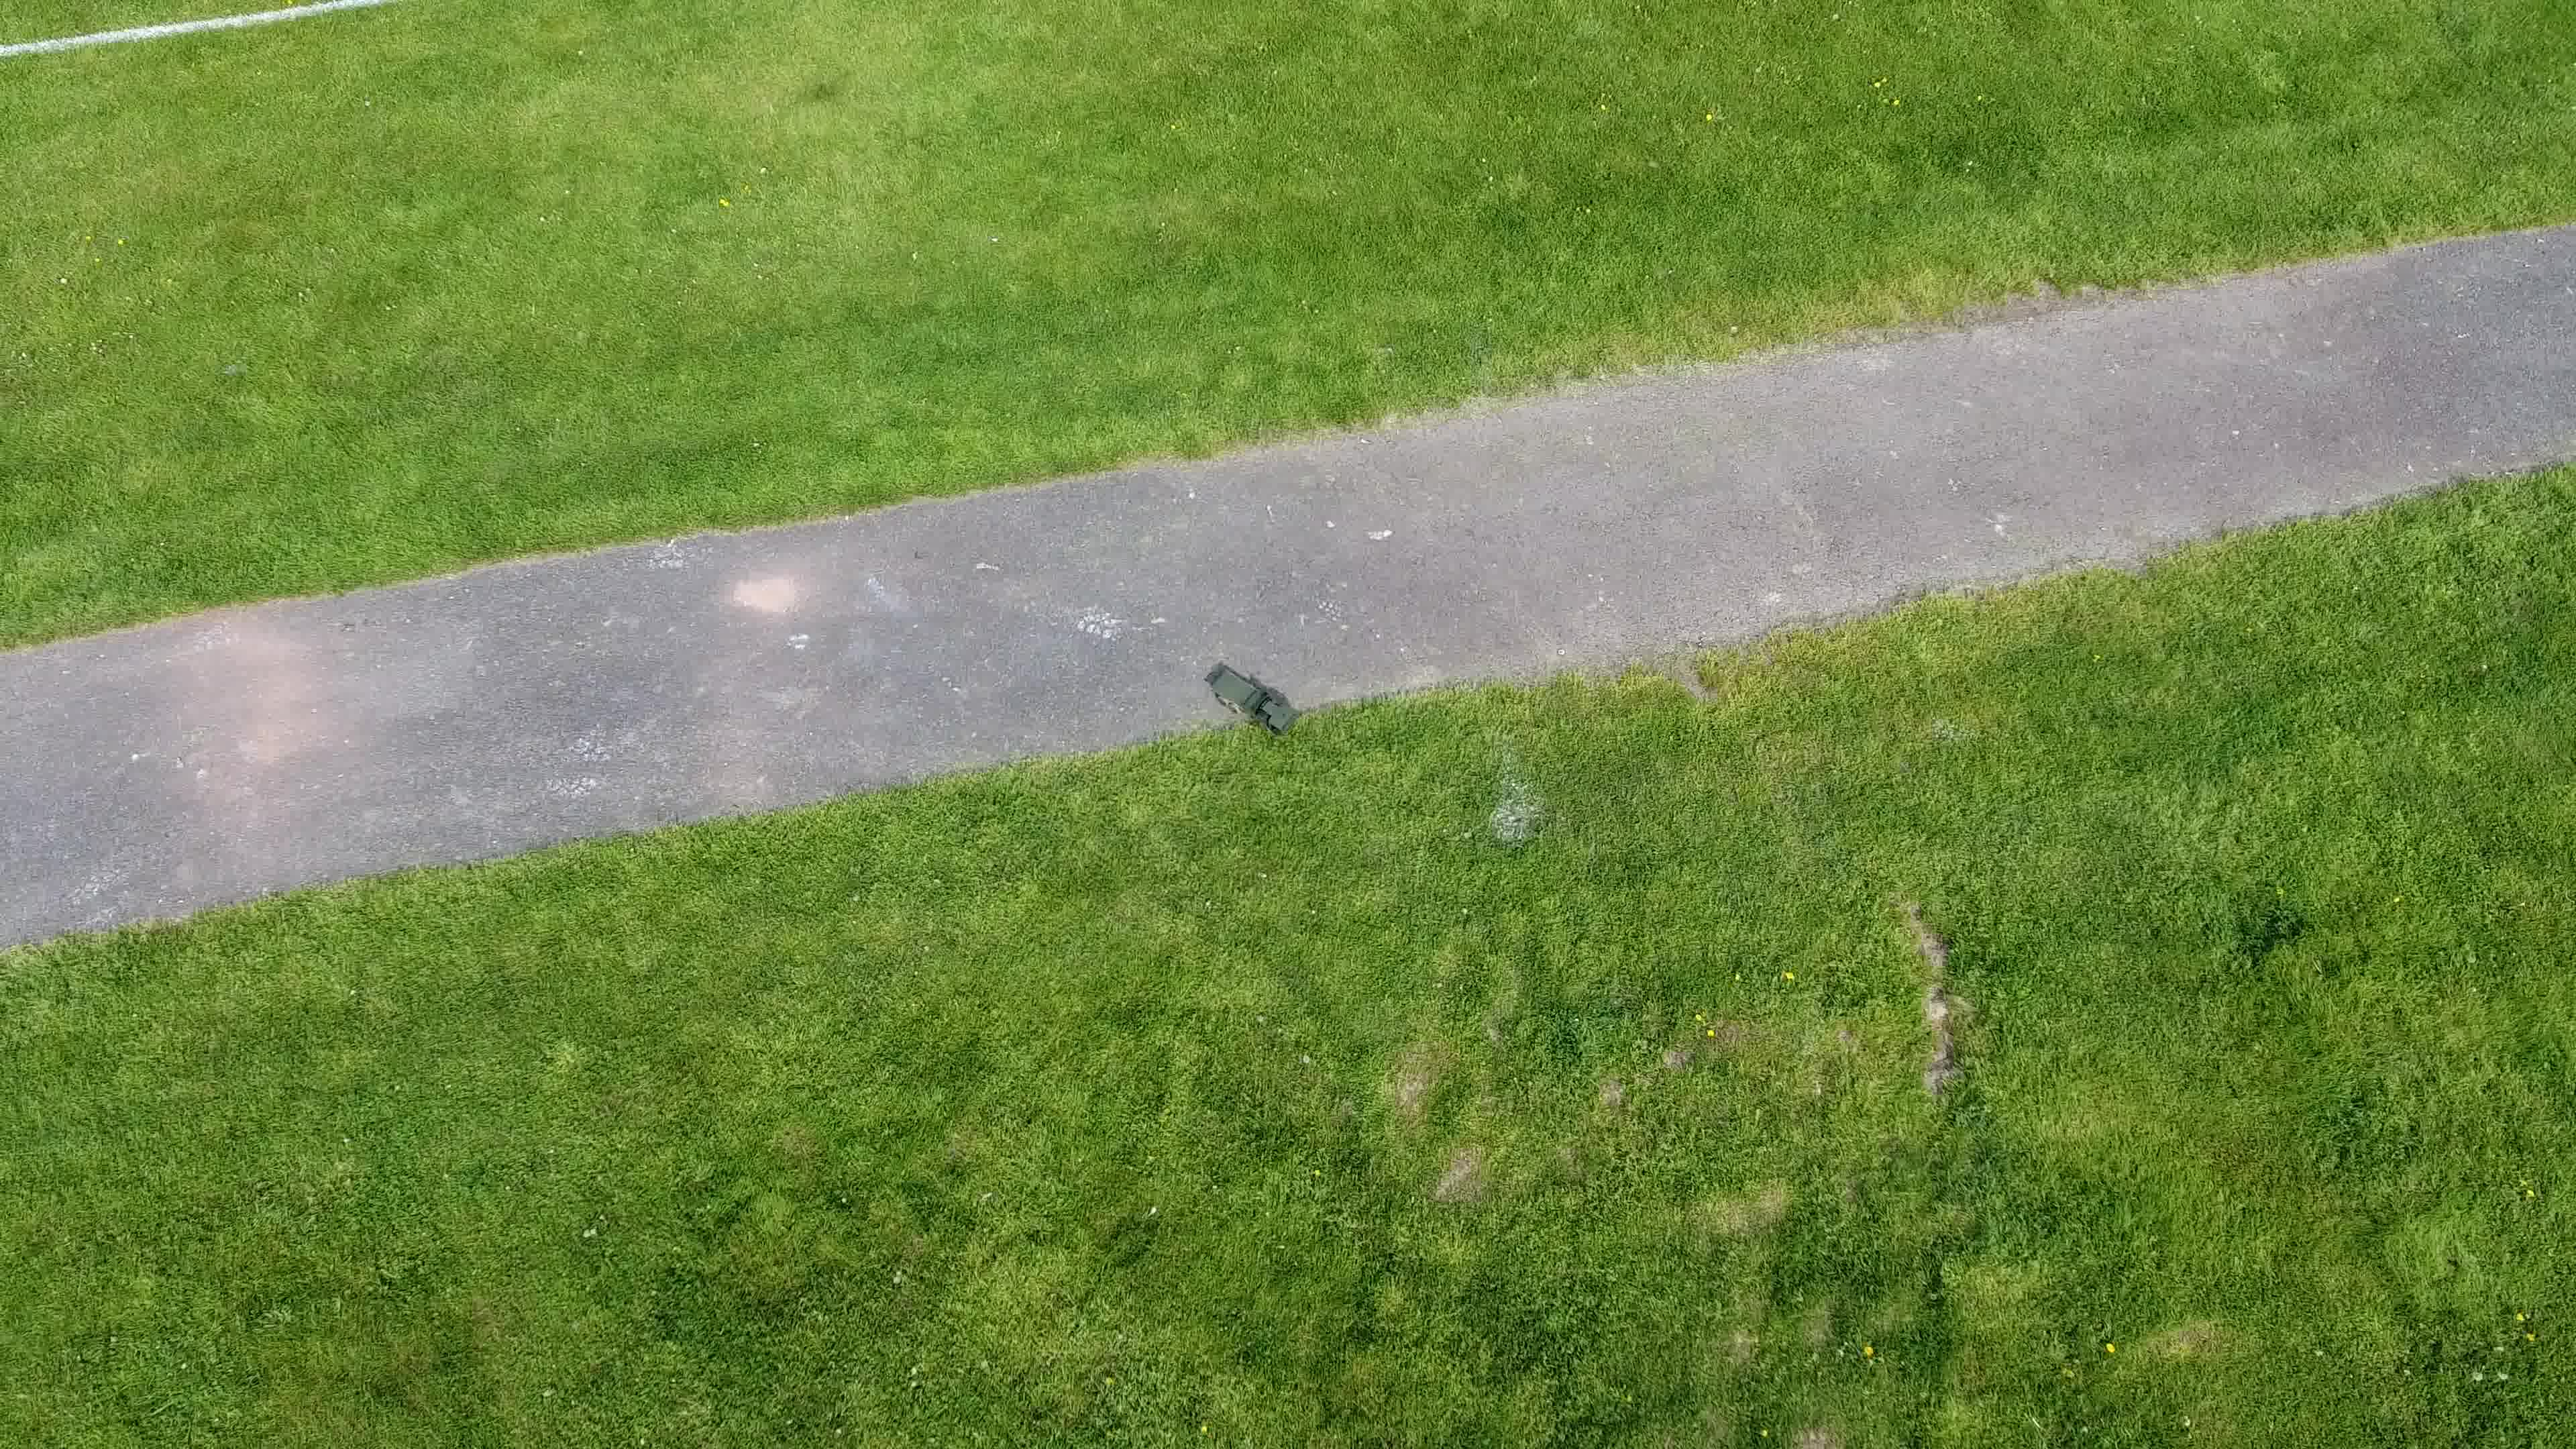transporter9: (1205, 662, 1300, 738)
